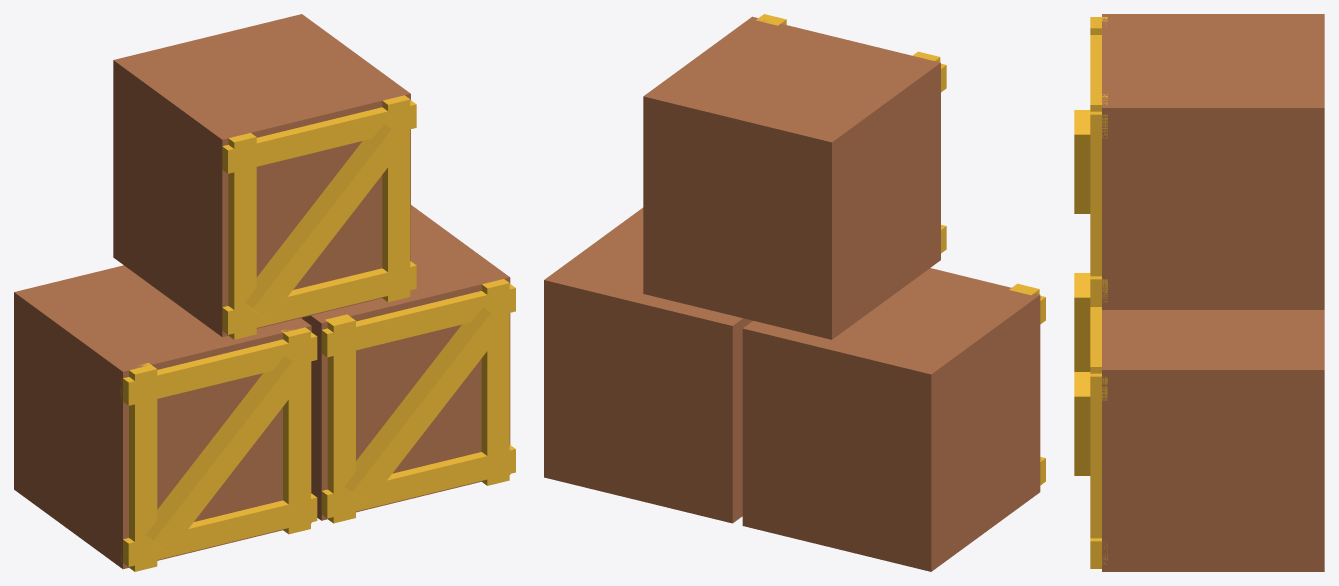
File: 25_crate_stack.obj
3 views of the same model, side by side, from view 1: azimuth 30°, elevation 25°; view 2: azimuth 150°, elevation 25°; view 3: azimuth 270°, elevation 25° (orthographic). The views are drawn at different scales.
Visible parts, largest first — view 1: part_12, part_0, part_6, part_17, part_5, part_11, part_13, part_1, part_7, part_14, part_8, part_2 (+6 smaller); view 2: part_12, part_0, part_6; view 3: part_12, part_6, part_14, part_8, part_11, part_17, part_5, part_16, part_10, part_15, part_9.
Part boxes in pixels (left/top/right/bottom): part_12: left=113, top=14, right=410, bottom=337; part_0: left=14, top=265, right=311, bottom=569; part_6: left=301, top=205, right=510, bottom=520; part_17: left=245, top=124, right=407, bottom=321; part_5: left=146, top=356, right=307, bottom=553; part_11: left=344, top=307, right=506, bottom=504; part_13: left=228, top=133, right=256, bottom=339; part_1: left=129, top=363, right=157, bottom=571; part_7: left=325, top=314, right=355, bottom=523; part_14: left=382, top=95, right=410, bottom=302; part_8: left=481, top=279, right=509, bottom=485; part_2: left=281, top=327, right=310, bottom=534; part_12: left=643, top=16, right=940, bottom=339; part_0: left=742, top=268, right=1040, bottom=571; part_6: left=544, top=207, right=752, bottom=523; part_12: left=1102, top=14, right=1324, bottom=309; part_6: left=1102, top=310, right=1324, bottom=571; part_14: left=1090, top=94, right=1107, bottom=306; part_8: left=1090, top=356, right=1101, bottom=568; part_11: left=1074, top=372, right=1090, bottom=475; part_17: left=1074, top=110, right=1090, bottom=213; part_5: left=1074, top=273, right=1090, bottom=371; part_16: left=1090, top=35, right=1107, bottom=138; part_10: left=1090, top=307, right=1107, bottom=400; part_15: left=1090, top=276, right=1107, bottom=303; part_9: left=1090, top=538, right=1107, bottom=565.
Size of the model in its own units: 1.56 by 1.56 by 0.855.
